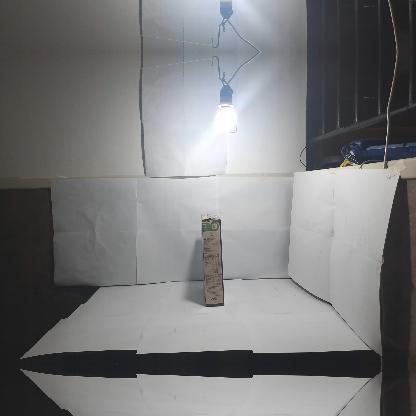Koko-Krunch: (201, 214, 224, 306)
